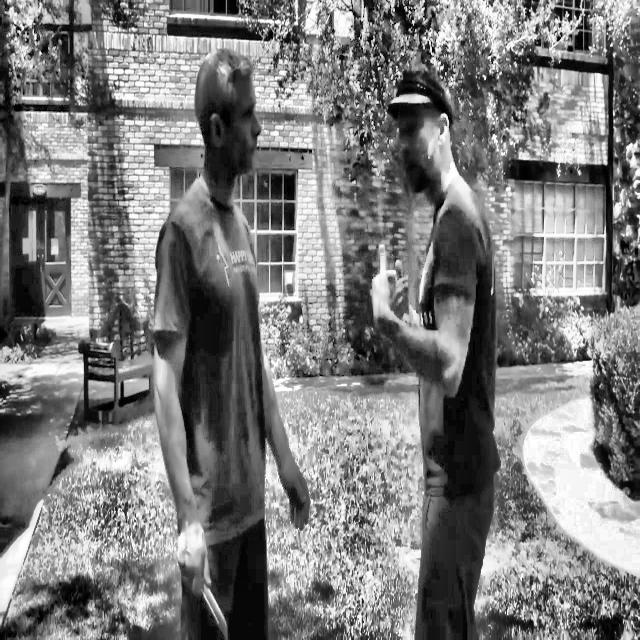pisau: (177, 531, 240, 640)
